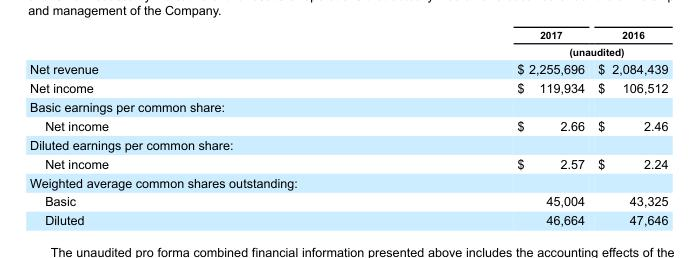table: (29, 28, 667, 227)
table column: (29, 28, 312, 227), (312, 28, 590, 227), (590, 28, 667, 227)
table column header: (29, 28, 667, 59)
table projected row header: (29, 96, 667, 115), (29, 134, 667, 153), (29, 172, 667, 191)
table row: (29, 59, 667, 78), (29, 96, 667, 115), (29, 115, 667, 134), (29, 134, 667, 153), (29, 153, 667, 172), (29, 172, 667, 191), (29, 191, 667, 210), (29, 78, 667, 96), (29, 42, 667, 59), (29, 210, 667, 227), (29, 28, 667, 42)
table spanning cell: (312, 42, 667, 59)
